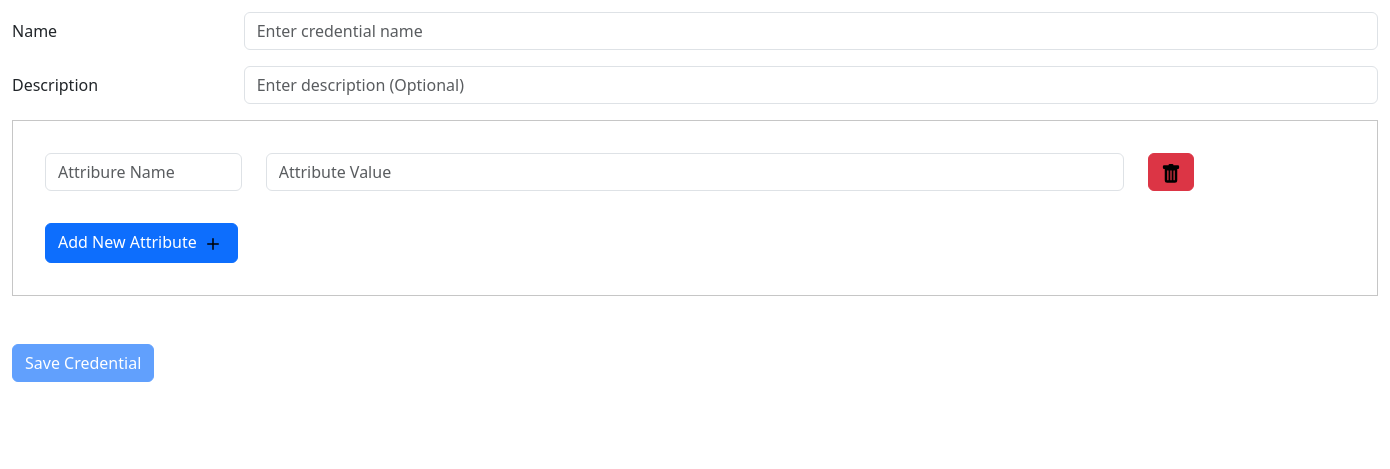
DynamicForm › adds a new empty attribute input fields and removes them using the buttons
Click the button "Add New Attribute": (141, 243) [45, 223, 238, 263]
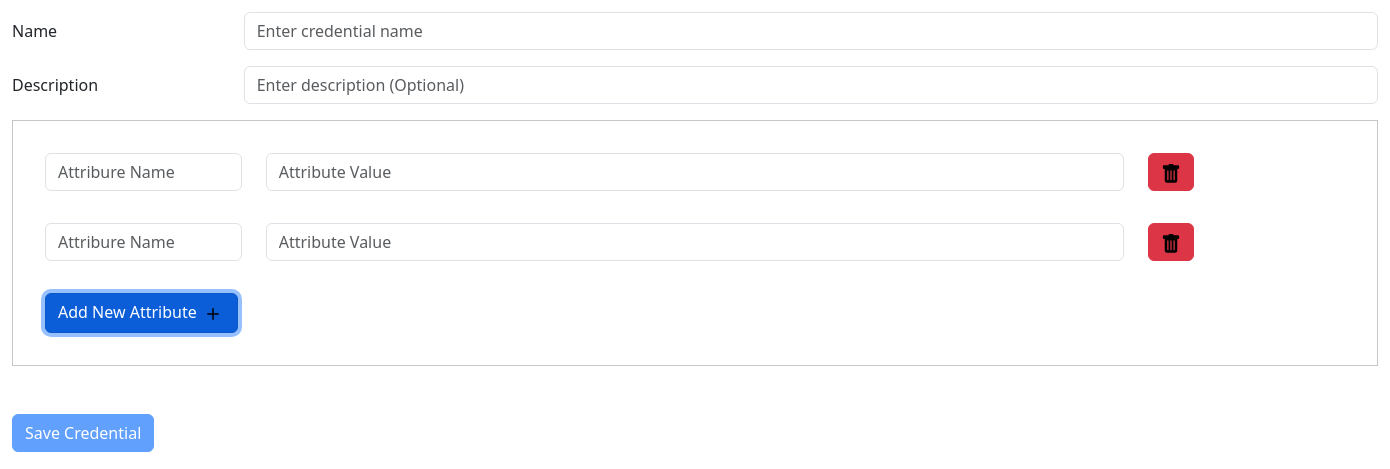
Expected: the number of fields with placeholder "Attribure Name" is 2, [45, 153, 242, 191]; [45, 223, 242, 261]
Expected: the number of fields with placeholder "Attribute Value" is 2, [266, 153, 1124, 191]; [266, 223, 1124, 261]
Click the button named "delete-attribute-1": (1171, 242) [1148, 223, 1194, 261]
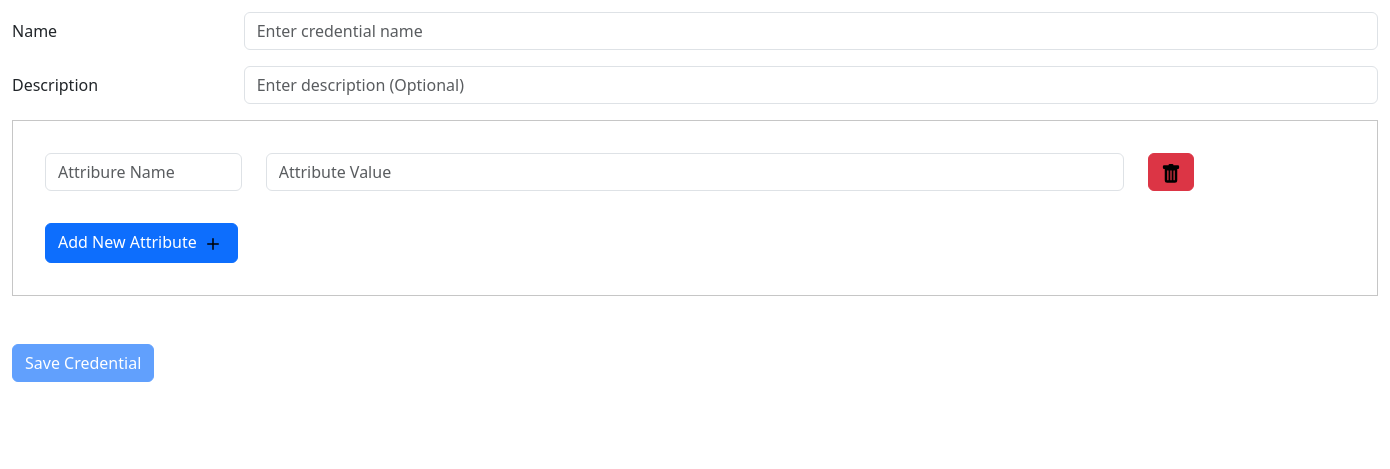
Expected: the number of fields with placeholder "Attribure Name" is 1, [45, 153, 242, 191]
Expected: the number of fields with placeholder "Attribute Value" is 1, [266, 153, 1124, 191]
